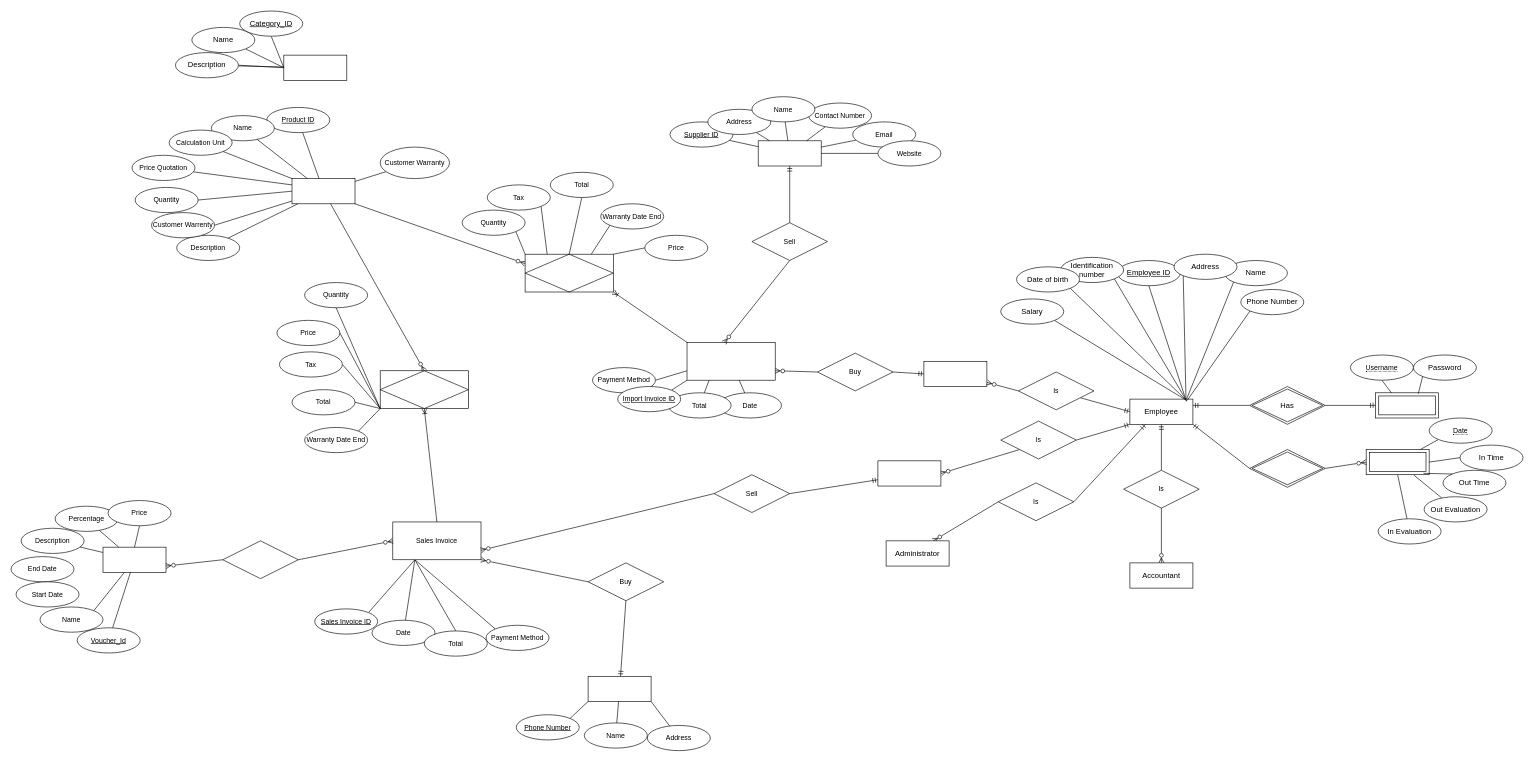
The diagram is 1534 pixels wide and 762 high, and some of its shapes have lost their labels. Here are the shapes that lost their labels. From the top down, the centre of each, then its label:
At (315,67): "Category".
At (789,153): "Supplier".
At (323,191): "Product".
At (568,273): "Import Invoice Detail".
At (730,361): "Import Invoice".
At (955,374): "Manager".
At (424,389): "Sales Invoice Detail".
At (1407,405): "Account".
At (909,473): "Sales Agent".
At (1287,468): "Attend".
At (1397,462): "Attendance".
At (134,559): "Voucher".
At (260,559): "Applied".
At (619,689): "Customer".
